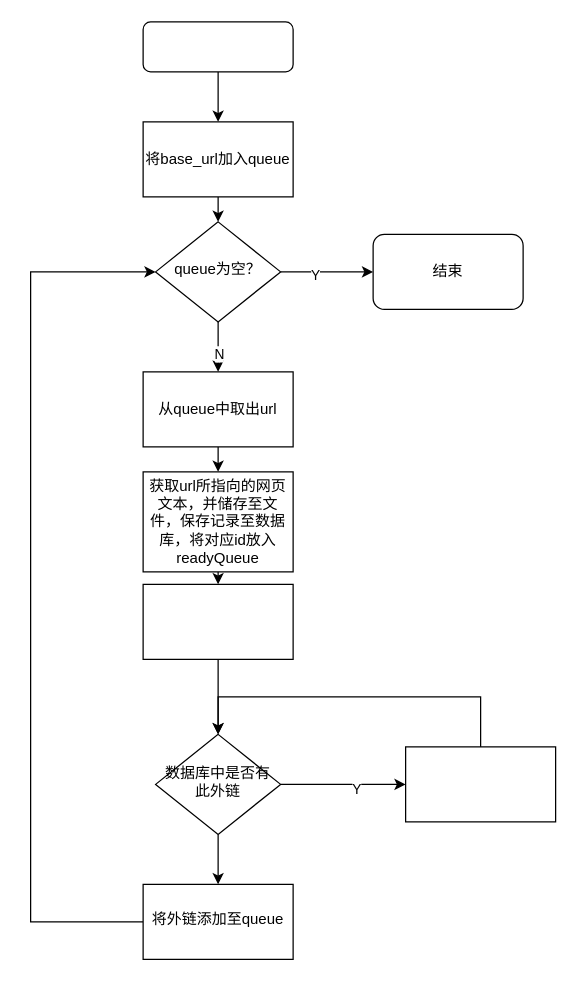
Image size: 578x981. Some labels were removed from this diagram. The shapes that lost their labels are listed below. From the top down, each one's centre as x and y in pixels, then its label:
At (x=217, y=46): "开始".
At (x=217, y=621): "获取网页中所有的<a>标签中的href项".
At (x=480, y=784): "丢弃".
